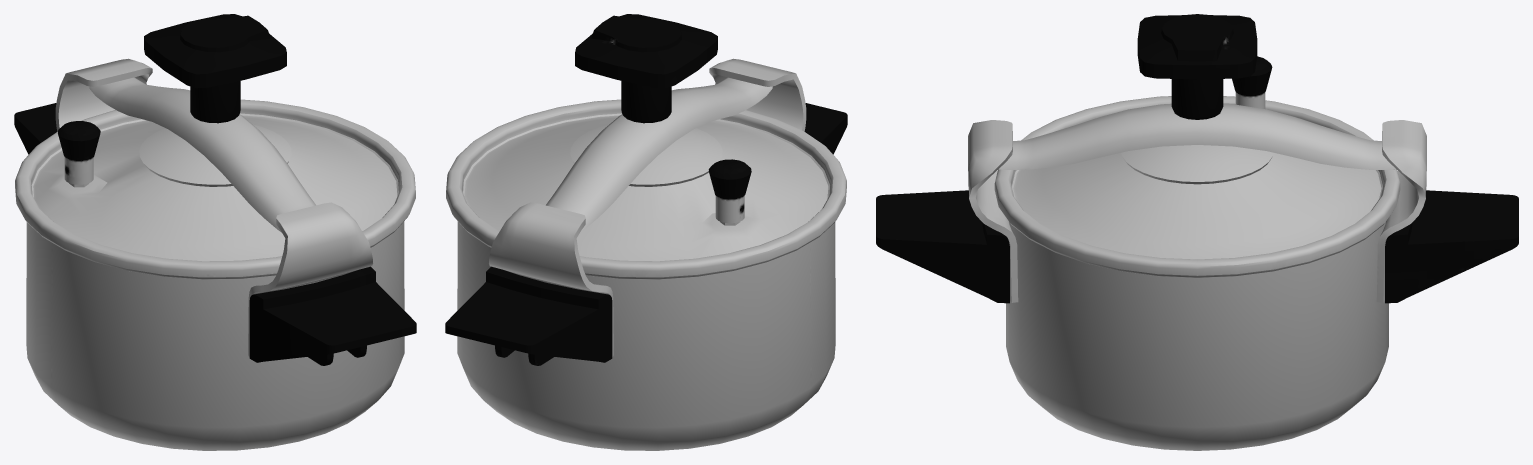
Rendered from pressure_cooker.glb.
The picture shows the model from 3 angles, left to right: view 1: azimuth 30°, elevation 25°; view 2: azimuth 150°, elevation 25°; view 3: azimuth 270°, elevation 25°; orthographic projection.
Visible parts, largest first — view 1: HandleBases_lr_CocotteMinute_0; view 2: HandleBases_lr_CocotteMinute_0; view 3: HandleBases_lr_CocotteMinute_0.
Boxes of the visible parts, left/top/right/bottom form: HandleBases_lr_CocotteMinute_0: left=14, top=14, right=416, bottom=450; HandleBases_lr_CocotteMinute_0: left=445, top=14, right=847, bottom=450; HandleBases_lr_CocotteMinute_0: left=876, top=14, right=1518, bottom=450.
Bounding box in the file's own units: 0.2518 × 0.2438 × 0.3991.
Materials: 1 (1 with a texture image).
